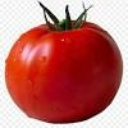tomato: (5, 17, 124, 124)
